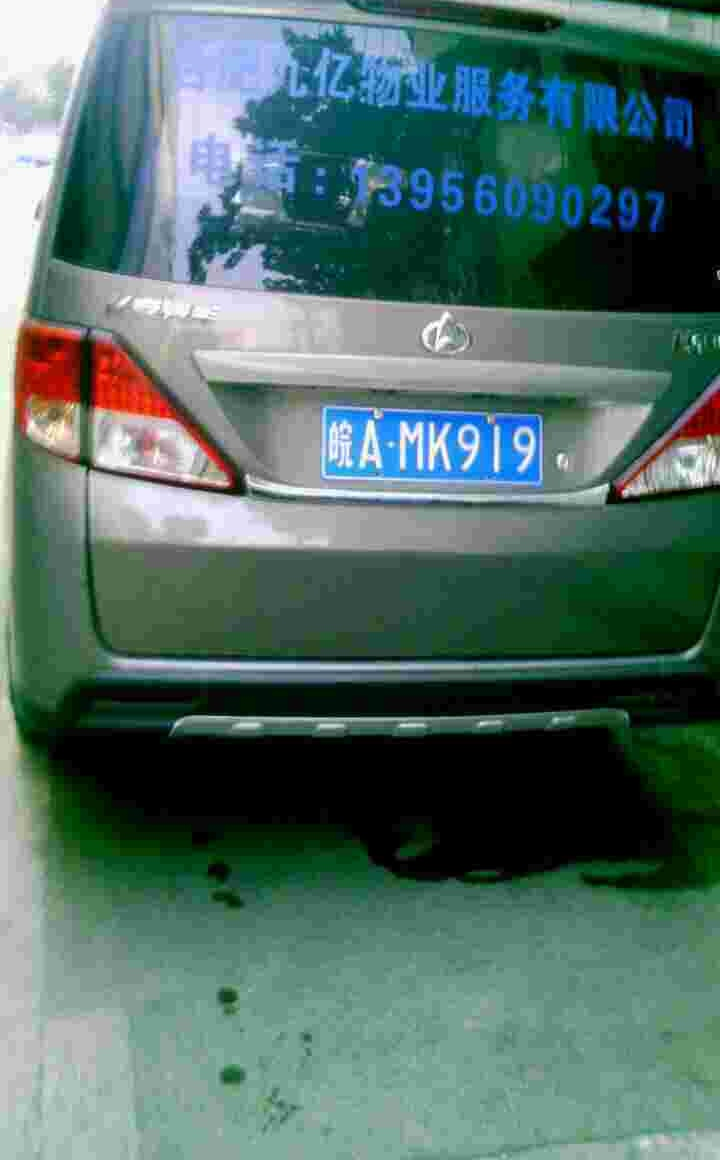license_plate: (322, 404, 553, 471)
